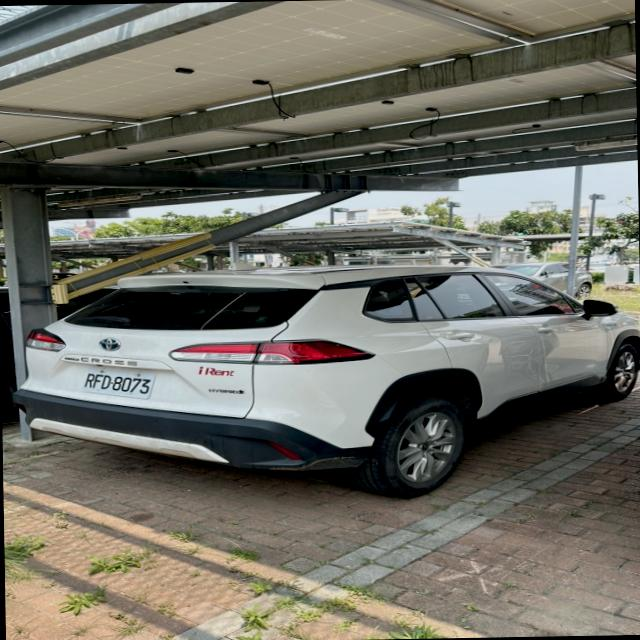license plate: (81, 368, 154, 398)
wheel: (351, 396, 464, 495)
